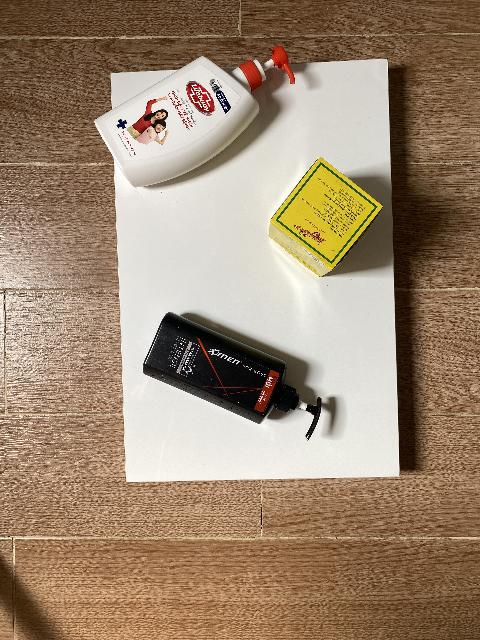X-men: (143, 312, 323, 441)
life-buoy: (94, 45, 294, 188)
luong_kho: (268, 157, 383, 278)
